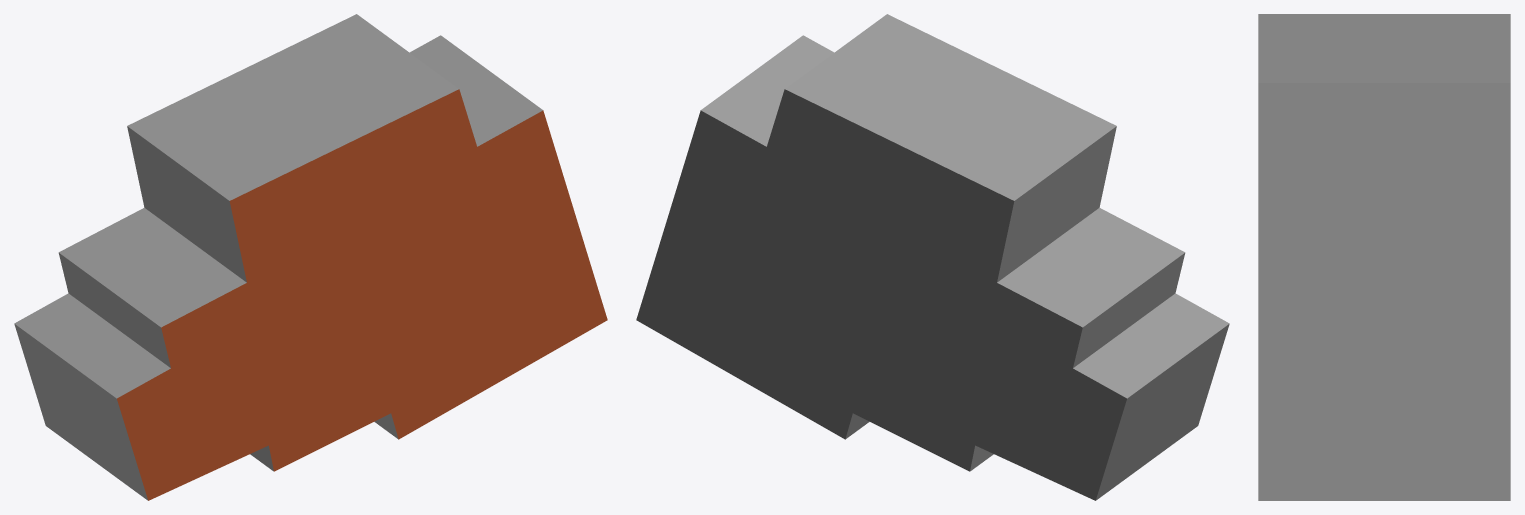
Rendered from construction_5130_assumed_A_Casa_h6m.obj.
3 views of the same model, side by side, from view 1: azimuth 30°, elevation 25°; view 2: azimuth 150°, elevation 25°; view 3: azimuth 270°, elevation 25° (orthographic). The views are drawn at different scales.
Visible parts, largest first — view 1: construction_5130_assumed_A_Casa; view 2: construction_5130_assumed_A_Casa; view 3: construction_5130_assumed_A_Casa.
Part boxes in pixels (left/top/right/bottom): construction_5130_assumed_A_Casa: left=14, top=14, right=607, bottom=500; construction_5130_assumed_A_Casa: left=636, top=14, right=1229, bottom=500; construction_5130_assumed_A_Casa: left=1258, top=14, right=1510, bottom=500.
Bounding box in the file's own units: 16.58 × 10.89 × 6.
